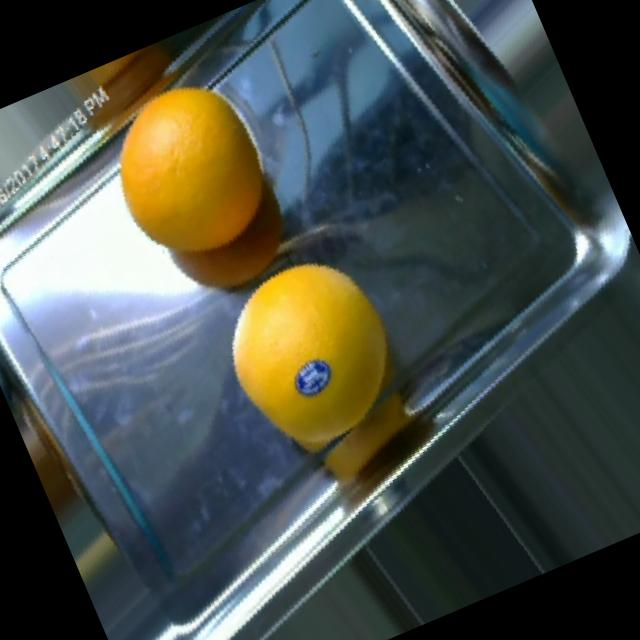Fruit: (67, 49, 305, 318), (278, 344, 344, 411)
